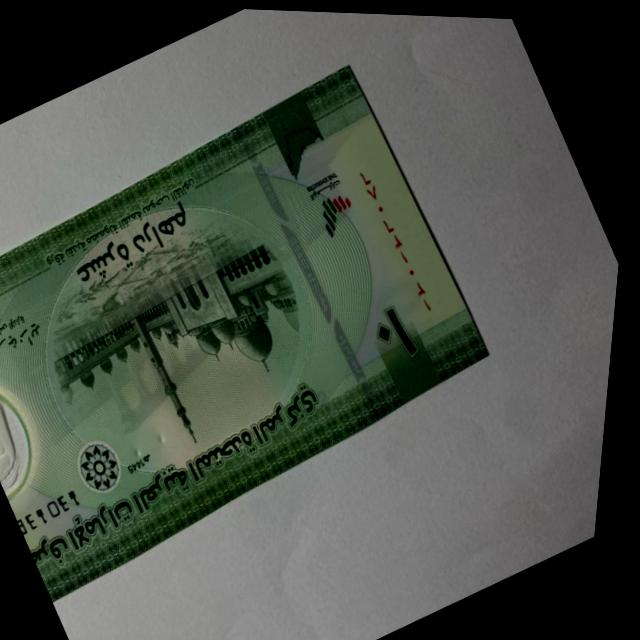10_AED: (0, 52, 495, 602)
